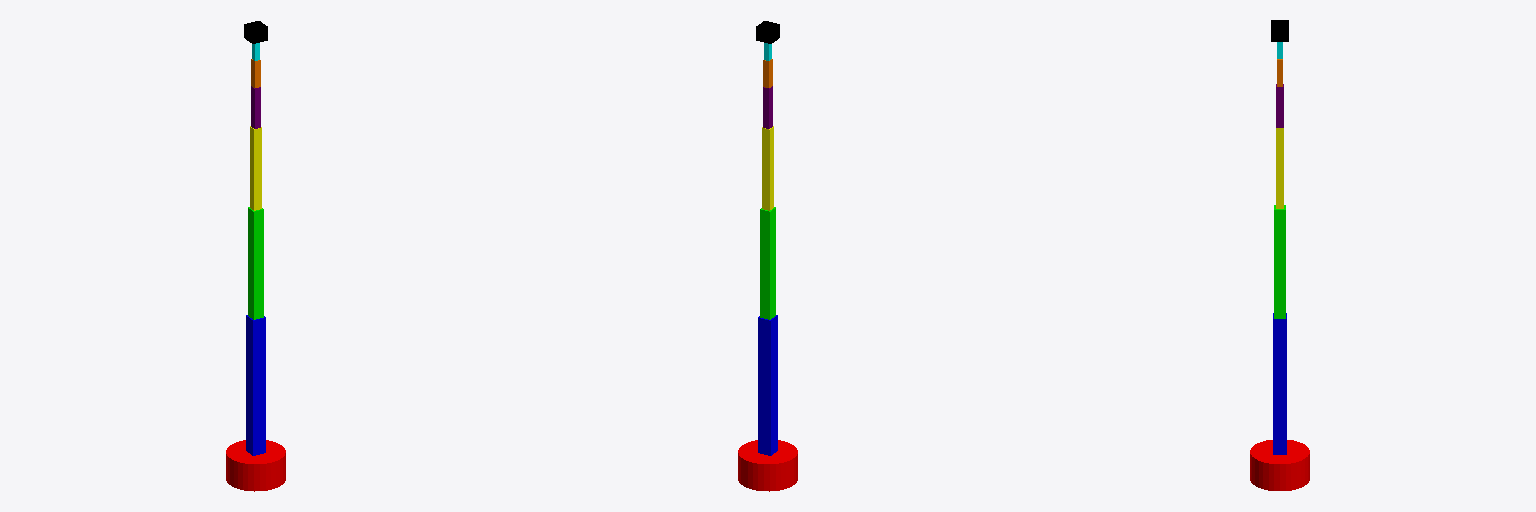
robot.urdf — simple_arm:
<?xml version="1.0" ?>
<!-- =================================================================================== -->
<!-- |    This document was autogenerated by xacro from /home/sumit-jangra/ros2_ws/src/my_arm_description/urdf/simple_arm_moveit_clean.urdf.xacro | -->
<!-- |    EDITING THIS FILE BY HAND IS NOT RECOMMENDED                                 | -->
<!-- =================================================================================== -->
<robot name="simple_arm">
  <!-- BASE LINK -->
  <link name="base_link">
    <visual>
      <geometry>
        <cylinder length="0.2" radius="0.2"/>
      </geometry>
      <material name="red">
        <color rgba="1 0 0 1"/>
      </material>
    </visual>
  </link>
  <!-- LINK 1 -->
  <link name="link1">
    <visual>
      <origin rpy="0 0 0" xyz="0 0 0.5"/>
      <geometry>
        <box size="0.1 0.1 1.0"/>
      </geometry>
      <material name="blue">
        <color rgba="0 0 1 1"/>
      </material>
    </visual>
  </link>
  <!-- LINK 2 -->
  <link name="link2">
    <visual>
      <origin rpy="0 0 0" xyz="0 0 0.4"/>
      <geometry>
        <box size="0.08 0.08 0.8"/>
      </geometry>
      <material name="green">
        <color rgba="0 1 0 1"/>
      </material>
    </visual>
  </link>
  <!-- LINK 3 -->
  <link name="link3">
    <visual>
      <origin rpy="0 0 0" xyz="0 0 0.3"/>
      <geometry>
        <box size="0.06 0.06 0.6"/>
      </geometry>
      <material name="yellow">
        <color rgba="1 1 0 1"/>
      </material>
    </visual>
  </link>
  <!-- LINK 4 -->
  <link name="link4">
    <visual>
      <origin rpy="0 0 0" xyz="0 0 0.15"/>
      <geometry>
        <box size="0.05 0.05 0.3"/>
      </geometry>
      <material name="purple">
        <color rgba="0.5 0 0.5 1"/>
      </material>
    </visual>
  </link>
  <!-- LINK 5 -->
  <link name="link5">
    <visual>
      <origin rpy="0 0 0" xyz="0 0 0.1"/>
      <geometry>
        <box size="0.045 0.045 0.2"/>
      </geometry>
      <material name="orange">
        <color rgba="1 0.5 0 1"/>
      </material>
    </visual>
  </link>
  <!-- LINK 6 -->
  <link name="link6">
    <visual>
      <origin rpy="0 0 0" xyz="0 0 0.075"/>
      <geometry>
        <box size="0.04 0.04 0.15"/>
      </geometry>
      <material name="cyan">
        <color rgba="0 1 1 1"/>
      </material>
    </visual>
  </link>
  <!-- END EFFECTOR -->
  <link name="end_effector_link">
    <visual>
      <origin rpy="0 0 0" xyz="0 0 0.05"/>
      <geometry>
        <box size="0.12 0.12 0.1"/>
      </geometry>
      <material name="black">
        <color rgba="0 0 0 1"/>
      </material>
    </visual>
  </link>
  <!-- JOINT 1: BASE ROTATION -->
  <joint name="base_to_link1_joint" type="revolute">
    <parent link="base_link"/>
    <child link="link1"/>
    <origin rpy="0 0 0" xyz="0 0 0.1"/>
    <axis xyz="0 0 1"/>
    <limit effort="10" lower="-3.14" upper="3.14" velocity="1"/>
  </joint>
  <!-- JOINT 2: SHOULDER -->
  <joint name="shoulder_joint" type="revolute">
    <parent link="link1"/>
    <child link="link2"/>
    <origin rpy="0 0 0" xyz="0 0 1.0"/>
    <axis xyz="0 1 0"/>
    <limit effort="10" lower="-1.57" upper="1.57" velocity="1"/>
  </joint>
  <!-- JOINT 3: ELBOW -->
  <joint name="elbow_joint" type="revolute">
    <parent link="link2"/>
    <child link="link3"/>
    <origin rpy="0 0 0" xyz="0 0 0.8"/>
    <axis xyz="0 1 0"/>
    <limit effort="10" lower="-1.57" upper="1.57" velocity="1"/>
  </joint>
  <!-- JOINT 4: WRIST PITCH -->
  <joint name="wrist_pitch_joint" type="revolute">
    <parent link="link3"/>
    <child link="link4"/>
    <origin rpy="0 0 0" xyz="0 0 0.6"/>
    <axis xyz="0 1 0"/>
    <limit effort="10" lower="-1.57" upper="1.57" velocity="1"/>
  </joint>
  <!-- JOINT 5: WRIST ROLL -->
  <joint name="wrist_roll_joint" type="revolute">
    <parent link="link4"/>
    <child link="link5"/>
    <origin rpy="0 0 0" xyz="0 0 0.3"/>
    <axis xyz="0 0 1"/>
    <limit effort="10" lower="-3.14" upper="3.14" velocity="1"/>
  </joint>
  <!-- JOINT 6: WRIST YAW -->
  <joint name="wrist_yaw_joint" type="revolute">
    <parent link="link5"/>
    <child link="link6"/>
    <origin rpy="0 0 0" xyz="0 0 0.2"/>
    <axis xyz="1 0 0"/>
    <limit effort="10" lower="-3.14" upper="3.14" velocity="1"/>
  </joint>
  <!-- FIXED JOINT TO END EFFECTOR -->
  <joint name="link6_to_end_effector" type="fixed">
    <parent link="link6"/>
    <child link="end_effector_link"/>
    <origin rpy="0 0 0" xyz="0 0 0.15"/>
  </joint>
</robot>

--- Render facts (derived) ---
3 views of the same robot in one strip: view 1: azimuth 30°, elevation 25°; view 2: azimuth 150°, elevation 25°; view 3: azimuth 270°, elevation 25° (orthographic).
Robot: simple_arm — 8 links, 7 joints (6 revolute, 1 fixed); root link base_link; default pose: every joint at zero.
Links seen in each view (by area): view 1: link1, base_link, link2, link3; view 2: link1, base_link, link2, link3; view 3: base_link, link1, link2, link3.
Link boxes in pixels (x1,y1,x2,y2): link1: (246,315,265,455); base_link: (226,440,285,491); link2: (248,207,263,319); link3: (250,126,261,210); link1: (758,315,777,455); base_link: (738,440,797,491); link2: (760,207,775,319); link3: (762,126,773,210); base_link: (1250,440,1309,490); link1: (1273,313,1286,454); link2: (1274,205,1285,318); link3: (1276,128,1283,208).
Bounding box of the posed robot: 0.4 × 0.4 × 3.35 m (x, y, z).
Geometry: primitives only (box / cylinder / sphere), no mesh files.
